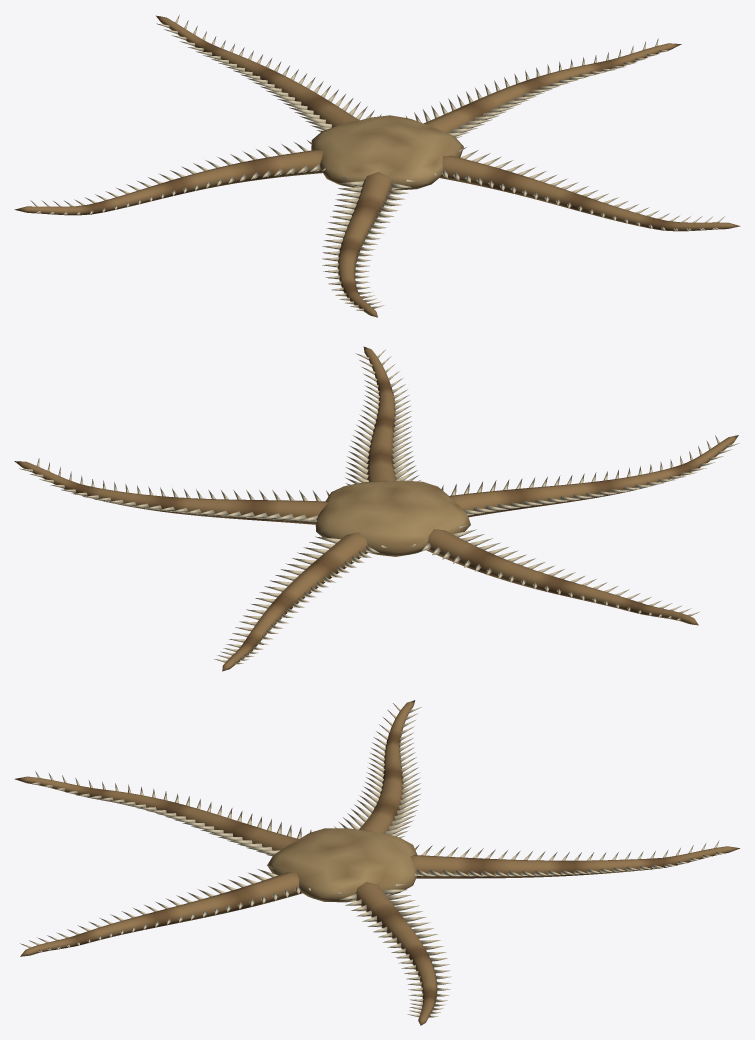
The model's file is Palaeocoma.fbx.
The picture shows the model from 3 angles, top to bottom: view 1: azimuth 30°, elevation 25°; view 2: azimuth 150°, elevation 25°; view 3: azimuth 270°, elevation 25°; orthographic projection. The views are drawn at different scales.
Parts seen in each view (by area): view 1: Palaeocoma; view 2: Palaeocoma; view 3: Palaeocoma.
Boxes of the visible parts, x1,y1,x2,y2 form: Palaeocoma: (14, 15, 740, 317); Palaeocoma: (14, 346, 739, 671); Palaeocoma: (14, 700, 739, 1025).
Size of the model in its own units: 1.77 by 0.1 by 1.67.
